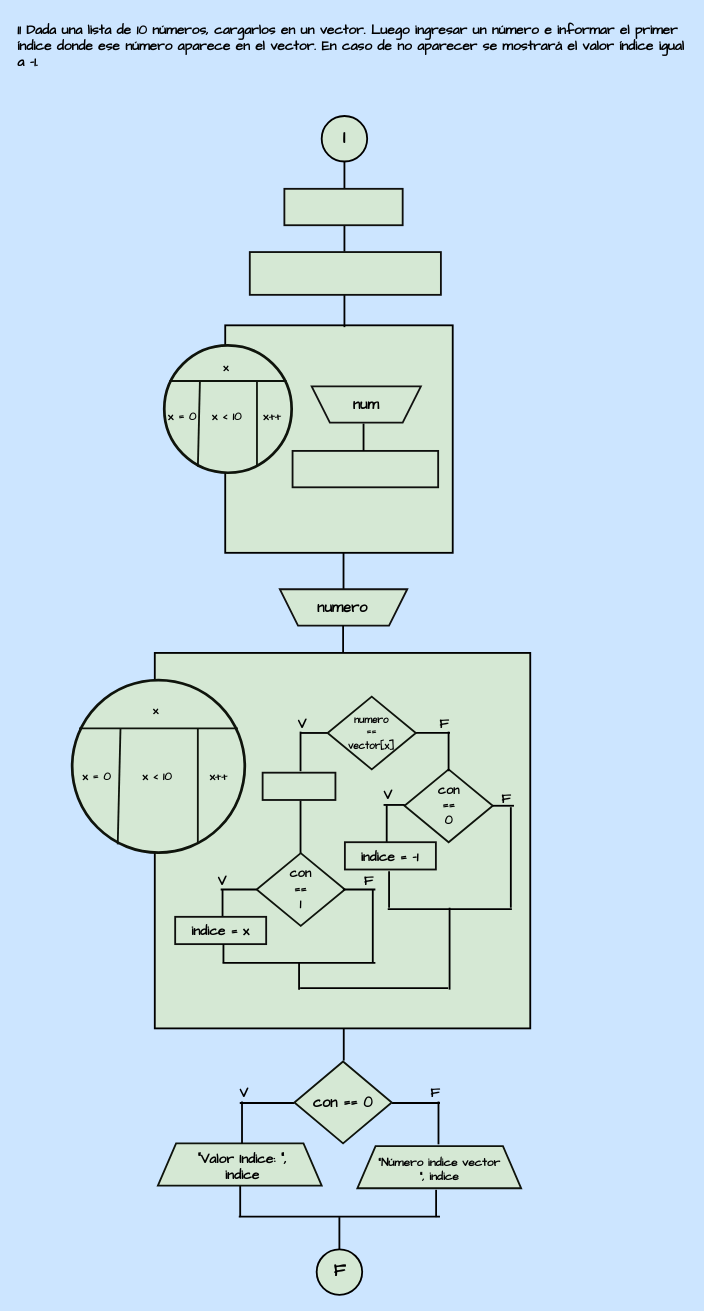
The diagram is 704 pixels wide and 1311 high, and some of its shapes have lost their labels. The centre of each missing label's shape, as x and y in pixels:
"con++" belongs at point (298, 785).
"int num, x = 0, numero = 0 int indice = 0, con = 0" belongs at point (344, 273).
"int vector[10]" belongs at point (343, 206).
"vector[x] = num" belongs at point (365, 469).
